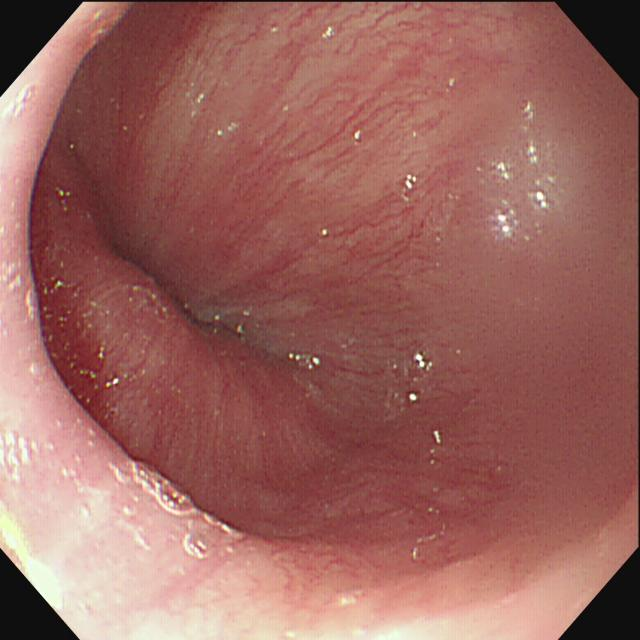U: (489, 99, 558, 244), (130, 456, 218, 562), (3, 506, 64, 613), (2, 431, 43, 488), (405, 352, 436, 404), (284, 350, 323, 372), (399, 171, 421, 207), (321, 26, 338, 40)
